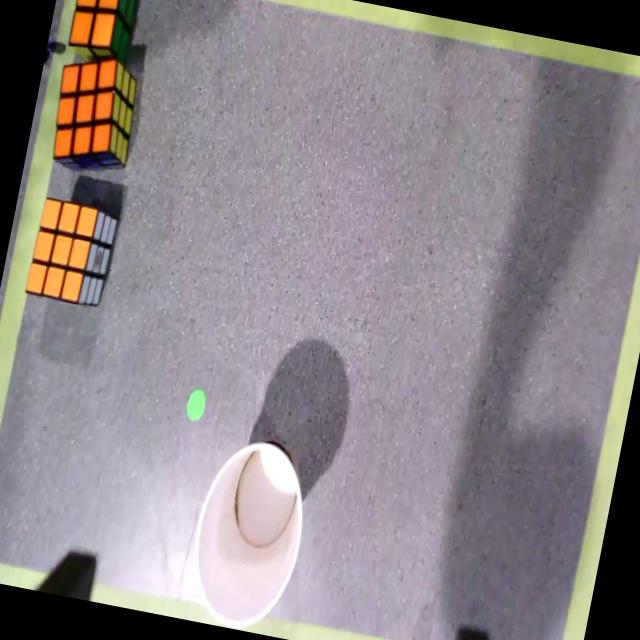cube2-orange: (69, 0, 119, 45)
cube3-orange: (25, 197, 99, 303), (53, 58, 118, 158)
